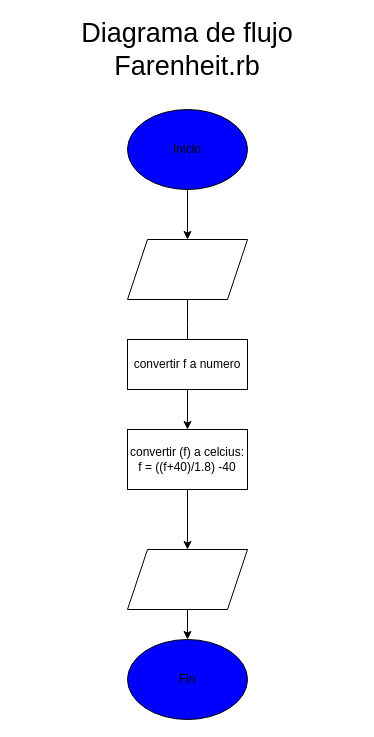
Some shapes in this 374 by 737 pixel diagram are drawn without their labels. Each missing label, with the box of its shape:
pedir temperatura (f): (126, 238, 248, 300)
puts c: (126, 548, 248, 610)
